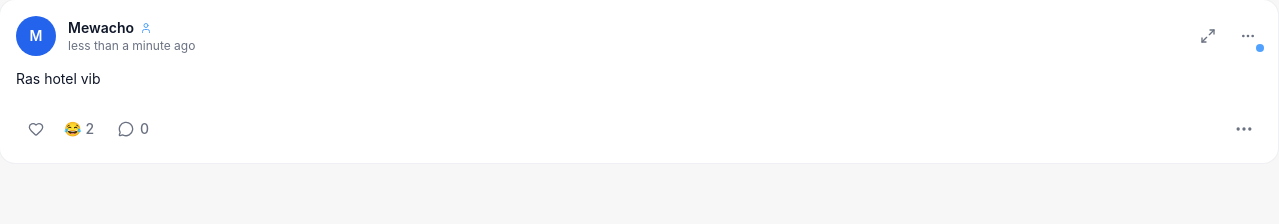
Test: comments › shows that comments are off instead of the box
The width and height of the screenshot is (1279, 224).
Step 1. Click the button named "View comments" → (134, 129), box x1=106 y1=107 x2=161 y2=151
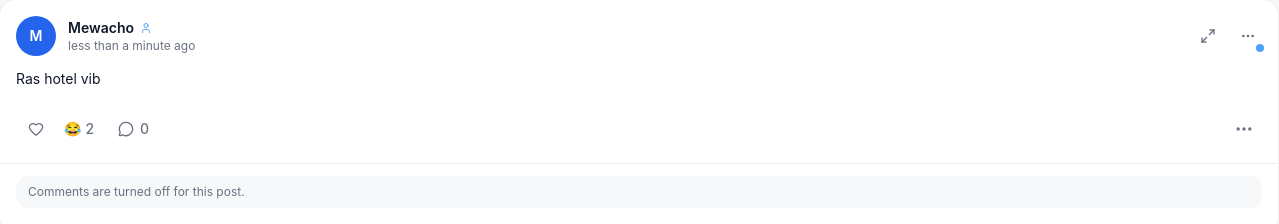
Result: the text "Comments are turned off for this post." is shown at x1=16 y1=176 x2=1262 y2=208
